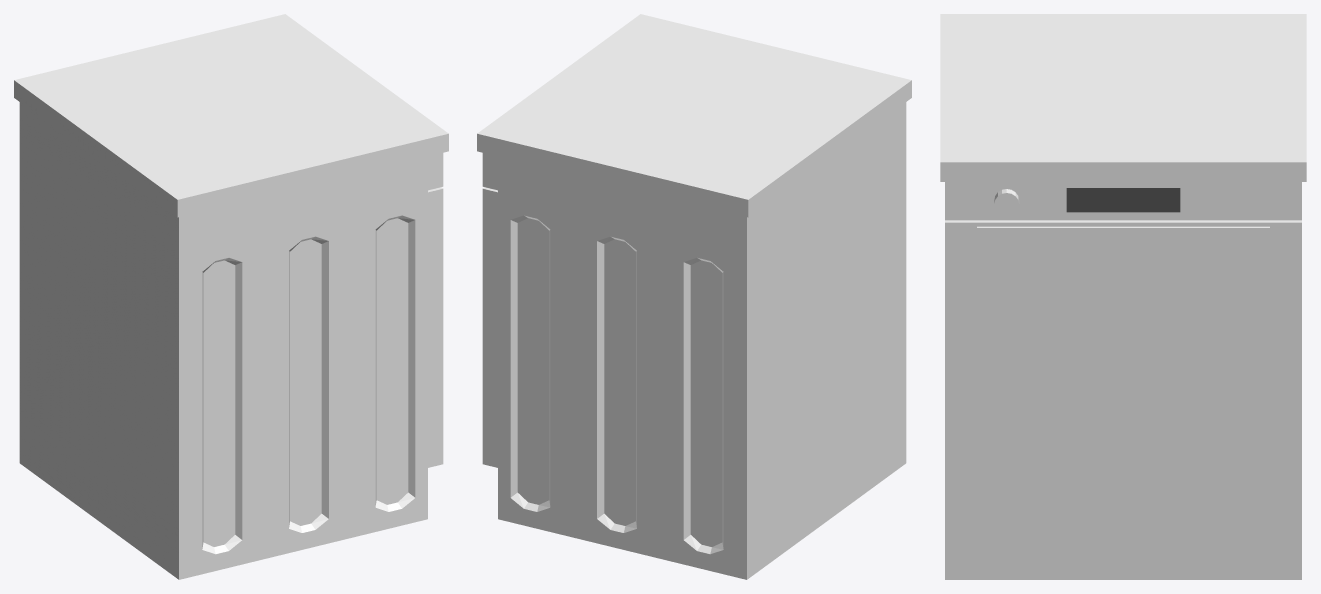
The model's file is dishwasher-by-poly-by-google-5KeZIs4X8EX.glb.
The picture shows the model from 3 angles, left to right: view 1: azimuth 30°, elevation 25°; view 2: azimuth 150°, elevation 25°; view 3: azimuth 270°, elevation 25°; orthographic projection. The views are drawn at different scales.
Visible parts, largest first — view 1: Dishwasher; view 2: Dishwasher; view 3: Dishwasher.
Boxes of the visible parts, box(x1,y1,x2,y2) form: Dishwasher: box(14, 14, 448, 579); Dishwasher: box(477, 14, 911, 579); Dishwasher: box(940, 14, 1306, 579).
Bounding box in the file's own units: 75.96 × 100 × 77.51.
Materials: 1 (1 with a texture image).
